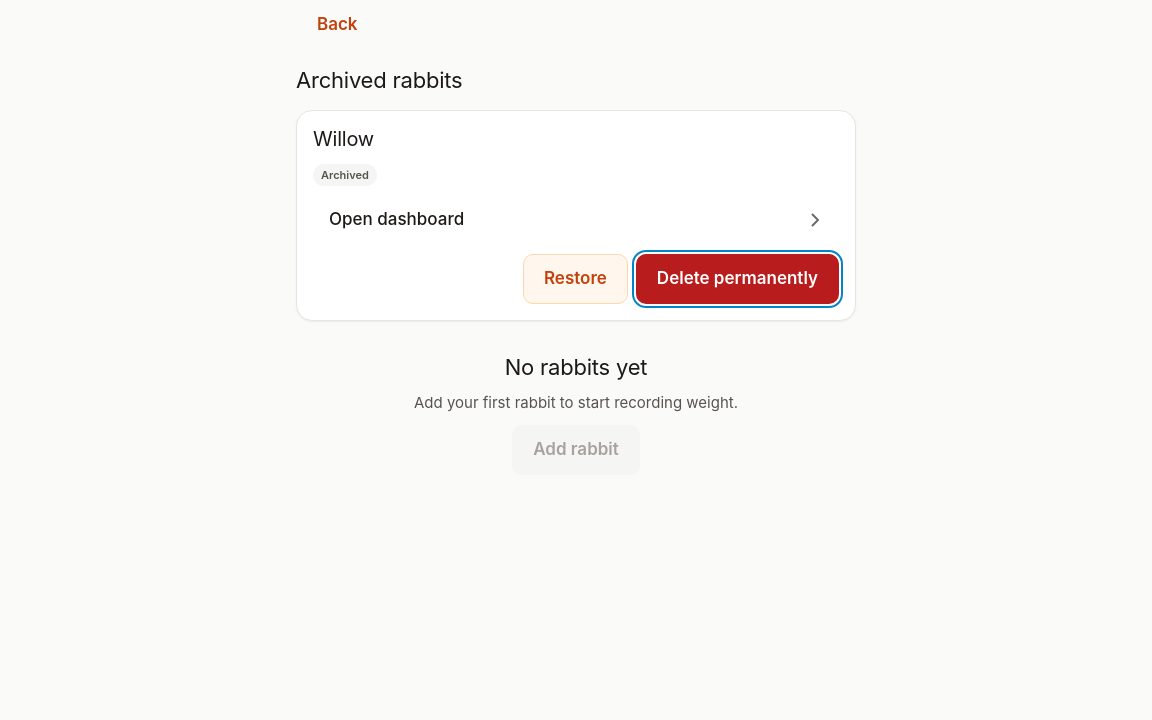
Test: permanently deletes the rabbit only from the confirmation, then announces the empty list
Expected: the heading "Willow" is shown, [313,127,374,151]
What coordinates should you click on to do the following:
click the button "Delete permanently"
I would click on:
 (737, 279)
Its box is [636,254,839,304].
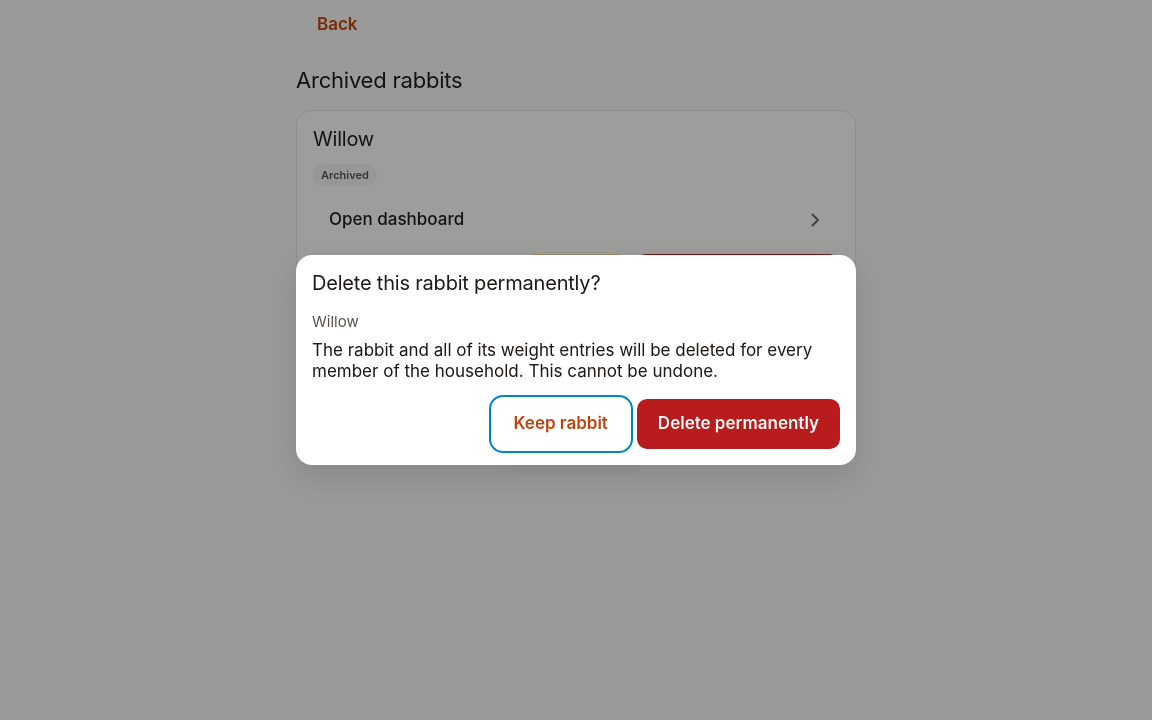
What coordinates should you click on to do the following:
click the button "Delete permanently"
I would click on:
 (738, 424)
Its box is [637,400,840,450].
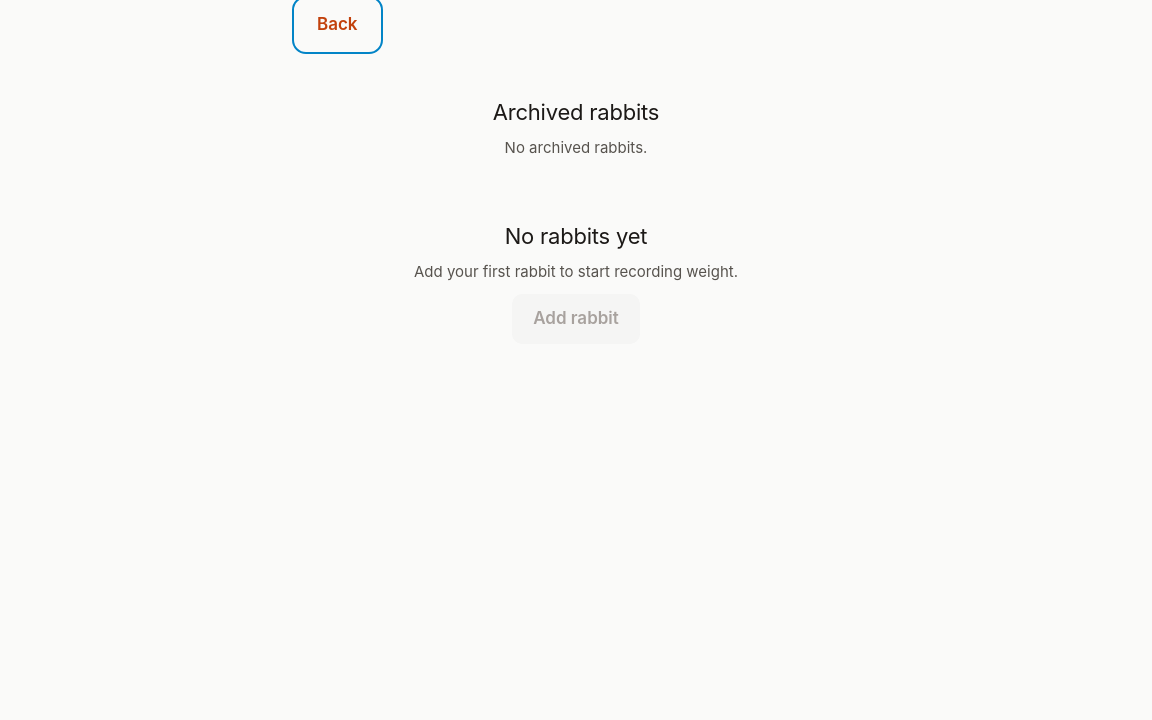
Expected: the heading "Willow" is gone
Expected: the dialog is gone
